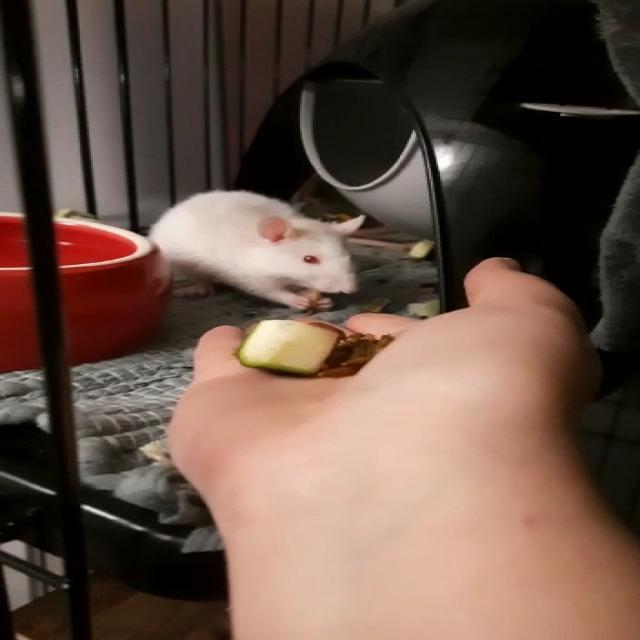rat: (156, 193, 368, 315)
